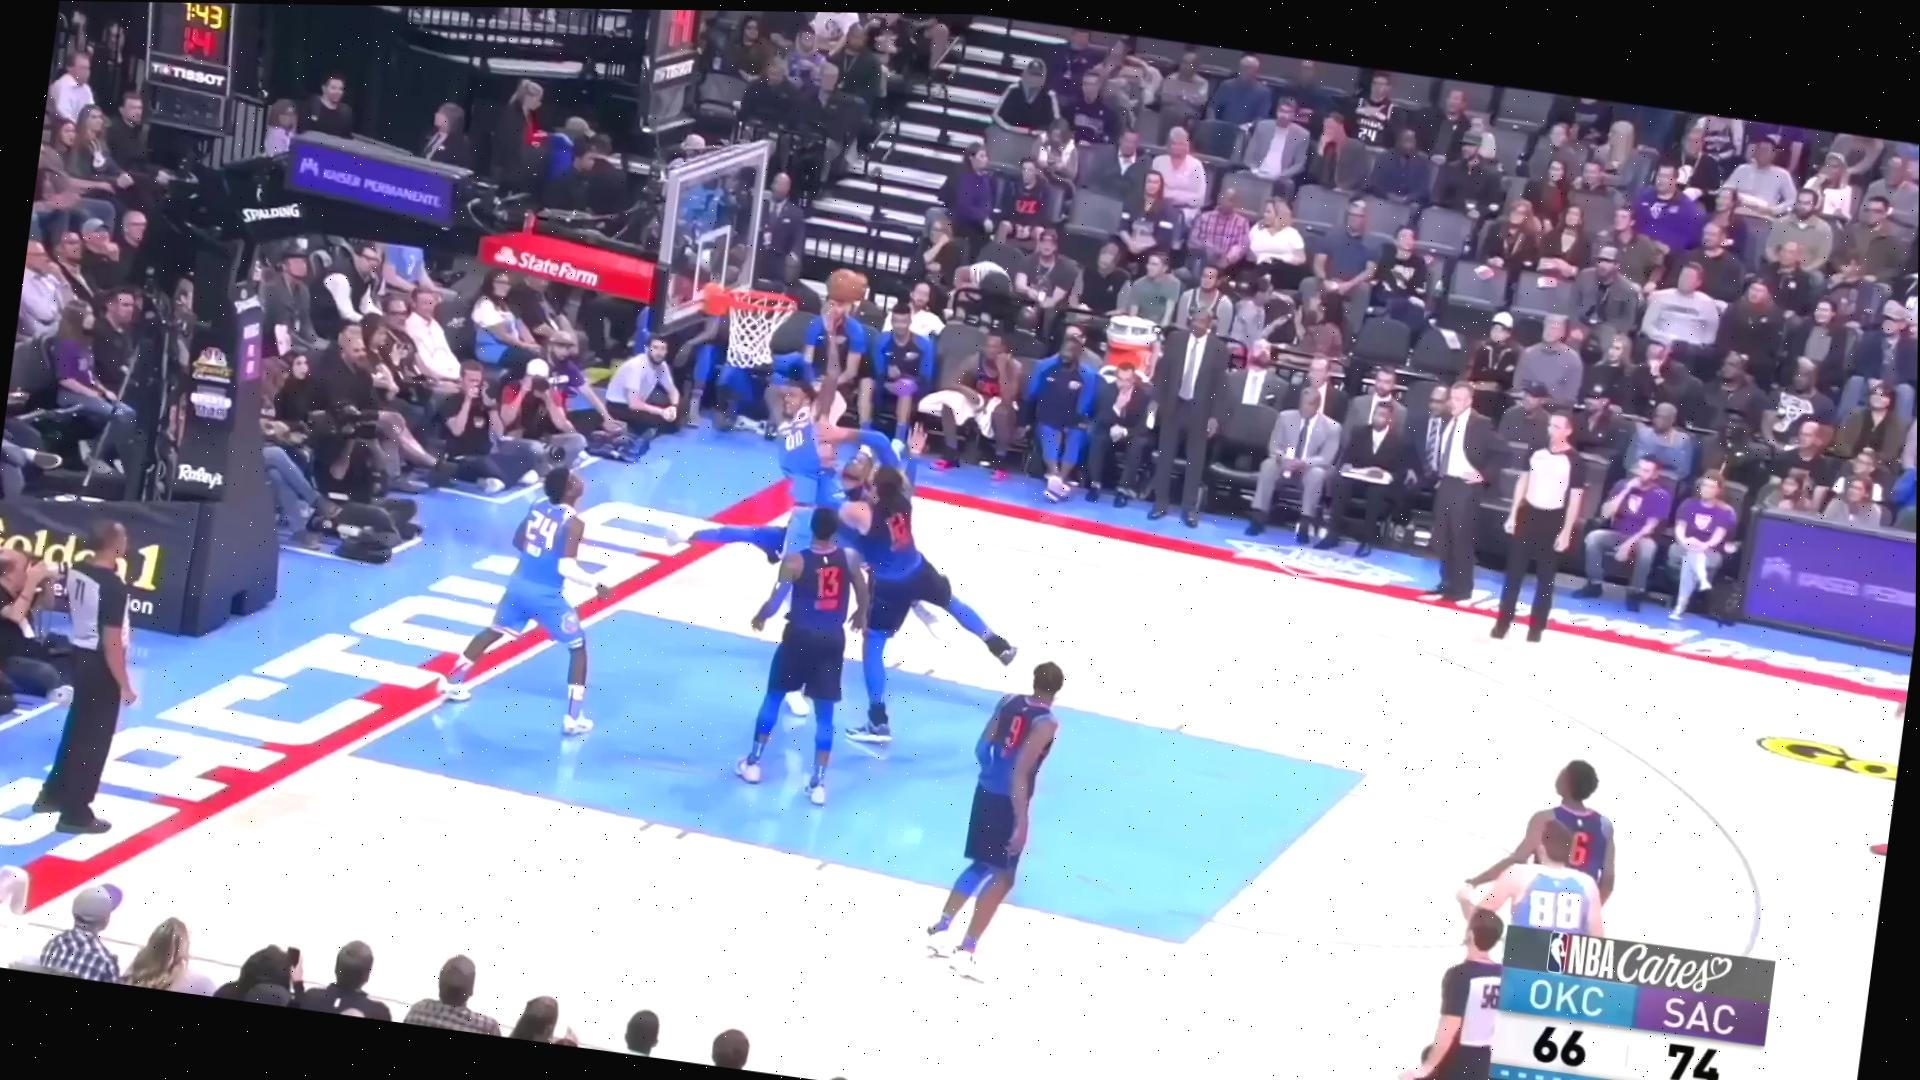foul: (723, 353, 1033, 735)
